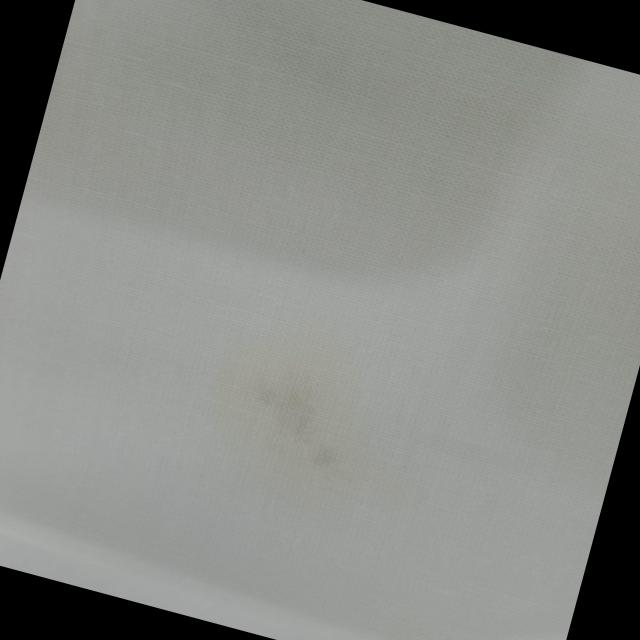stain: (203, 323, 394, 497)
